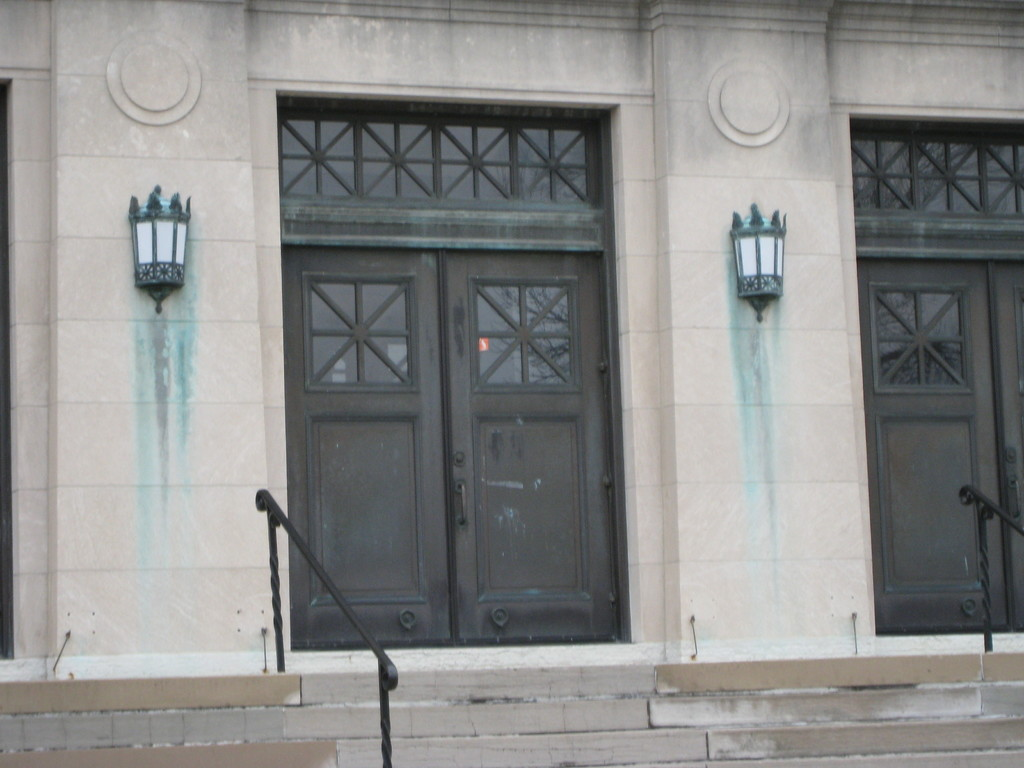Door: (272, 181, 623, 678), (861, 260, 1023, 636)
